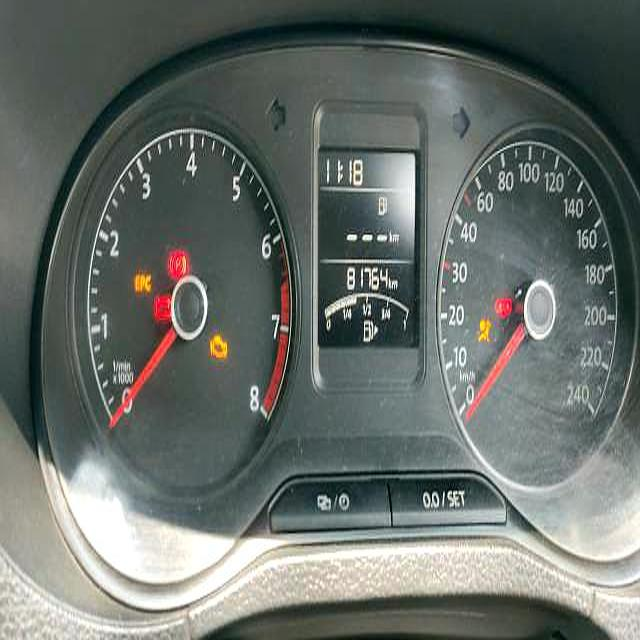odometer: (343, 259, 390, 295)
